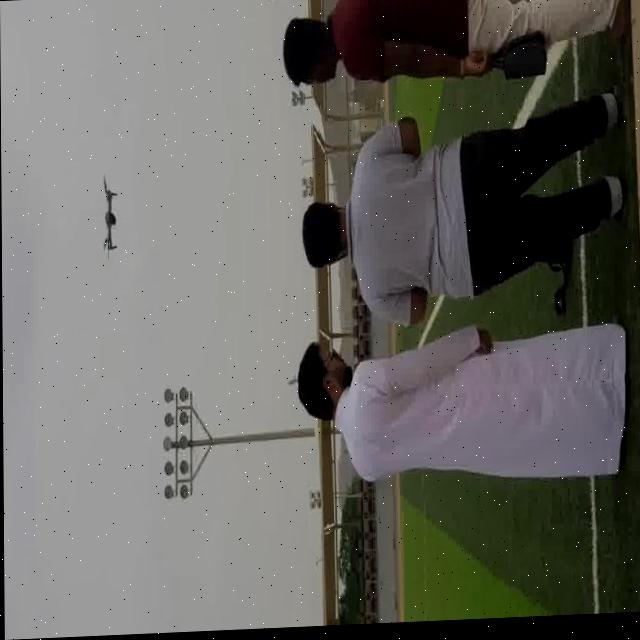drone: (97, 179, 122, 257)
